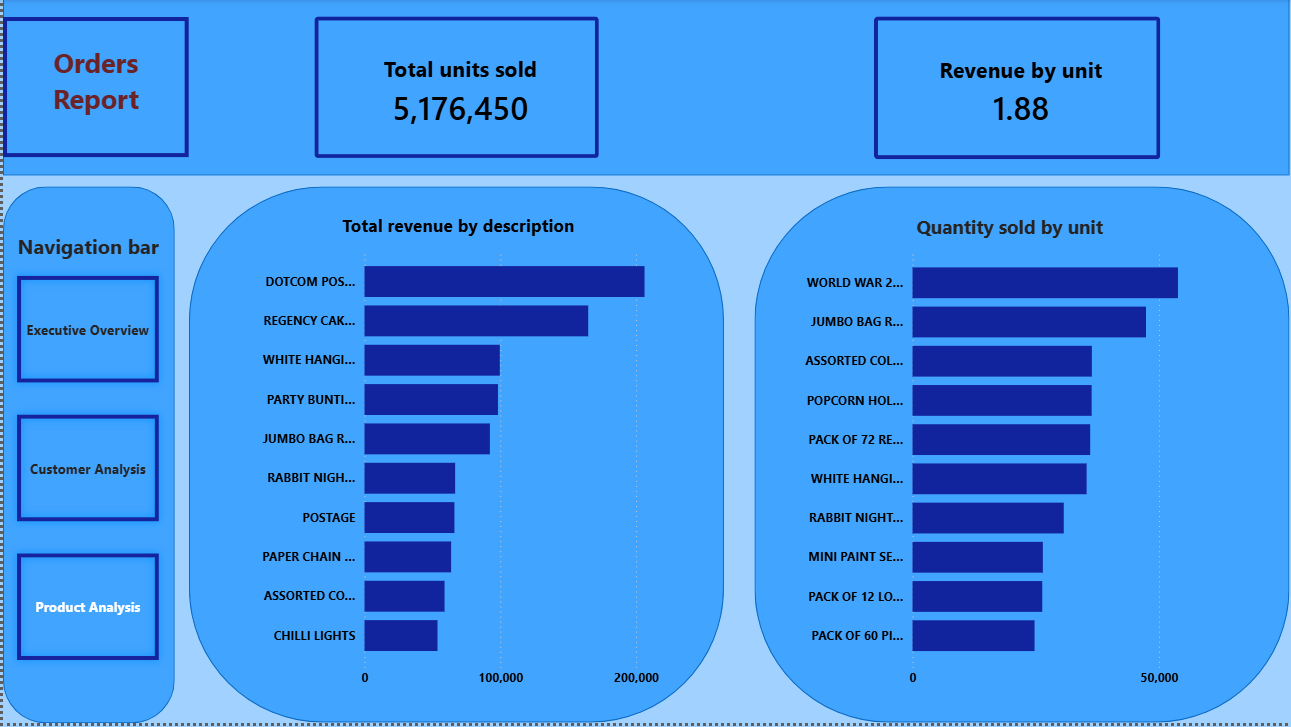

The page's visual inventory and layout, read from the dashboard file:
{"tool":"powerbi","page":{"name":"Product Analysis","canvas":[1280,720],"ordinal":2},"visuals":[{"type":"shape","box":[0,186.1,170.8,533.9],"z":0},{"type":"shape","box":[184.7,186.2,532,533],"z":1},{"type":"shape","box":[0,0,1279.5,175.6],"z":2},{"type":"textbox","box":[0,18.2,184.7,139.3],"z":3},{"type":"cardVisual","fields":{"Data":["orders.total_units_sold"]},"box":[292.2,0,318,175.6],"z":4},{"type":"shape","box":[748,186.2,532,533],"z":5},{"type":"clusteredBarChart","title":"Total revenue by description","fields":{"Category":["orders.Description"],"Y":["orders.total_revenue"]},"box":[240.8,213.5,425.5,480],"z":6},{"type":"clusteredBarChart","title":"Quantity sold by unit","fields":{"Category":["orders.Description"],"Y":["orders.total_units_sold"]},"box":[779.8,213.5,442.1,480],"z":7},{"type":"cardVisual","fields":{"Data":["orders.revenue_by_unit"]},"box":[848.1,0,319,176],"z":8},{"type":"pageNavigator","title":"Navigation bar","box":[6.1,233.2,157.5,434.6],"z":9}]}

Visuals, with their boxes in screenshot pixels (x1, y1, x2, y2), scaled from the page's 1280x720 canvas onto the 1291x727 screenshot:
shape: [0, 188, 172, 726]
shape: [186, 188, 723, 726]
shape: [0, 0, 1290, 177]
textbox: [0, 18, 186, 159]
cardVisual - orders.total_units_sold: [295, 0, 615, 177]
shape: [754, 188, 1290, 726]
"Total revenue by description" clusteredBarChart: [243, 216, 672, 700]
"Quantity sold by unit" clusteredBarChart: [787, 216, 1232, 700]
cardVisual - orders.revenue_by_unit: [855, 0, 1177, 178]
"Navigation bar" pageNavigator: [6, 235, 165, 674]
